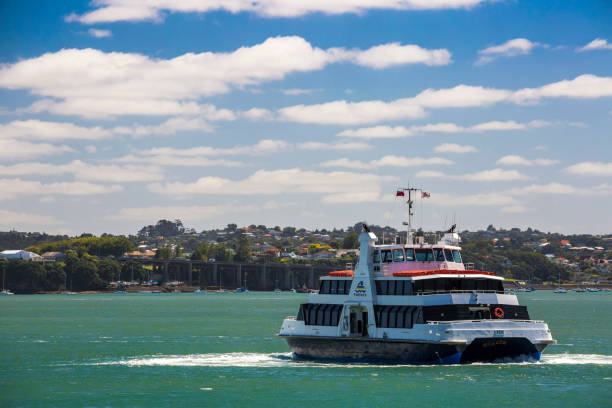ferry: (274, 229, 553, 364)
